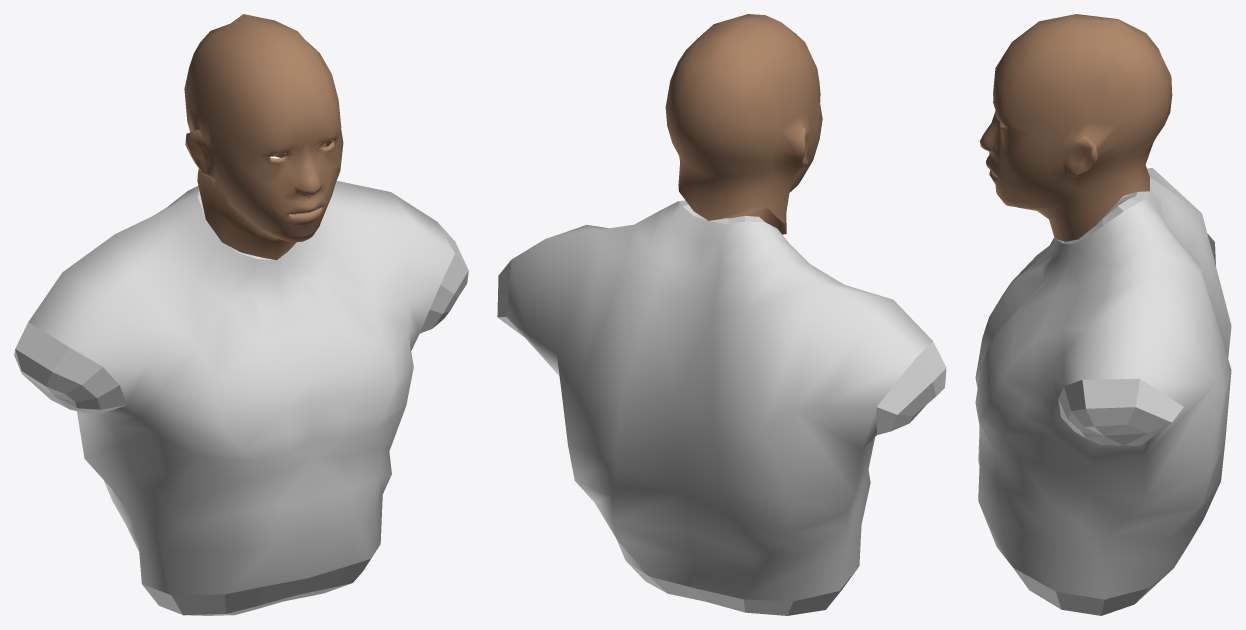
File: torso_head_avatar.FBX
3 views of the same model, side by side, from view 1: azimuth 30°, elevation 25°; view 2: azimuth 150°, elevation 25°; view 3: azimuth 270°, elevation 25° (orthographic). The views are drawn at different scales.
Visible parts, largest first — view 1: male1591Mesh, Head; view 2: male1591Mesh, Head; view 3: male1591Mesh, Head.
Boxes of the visible parts, box(x1,y1,x2,y2) form: male1591Mesh: box(14, 181, 468, 615); Head: box(184, 14, 343, 260); male1591Mesh: box(497, 200, 946, 615); Head: box(665, 14, 822, 234); male1591Mesh: box(975, 168, 1231, 615); Head: box(979, 14, 1172, 241).
Bounding box in the file's own units: 0.5625 × 0.2895 × 0.6982.
